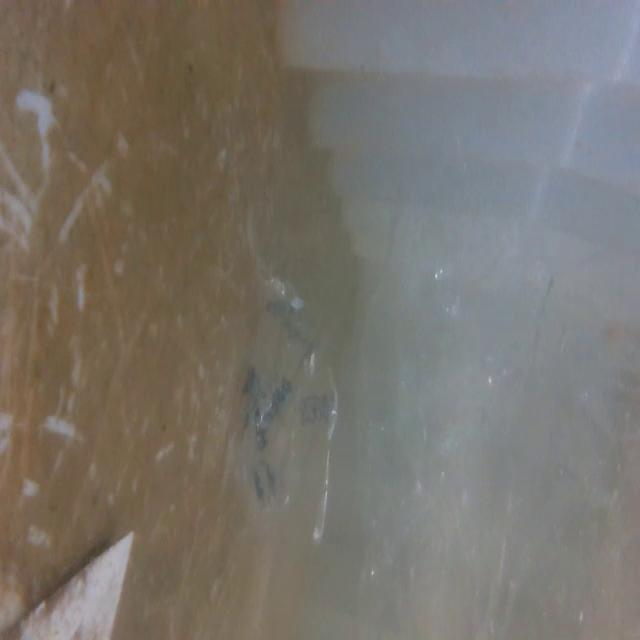metal: (0, 525, 158, 640)
plastic bags: (370, 224, 640, 640), (218, 271, 346, 563)
